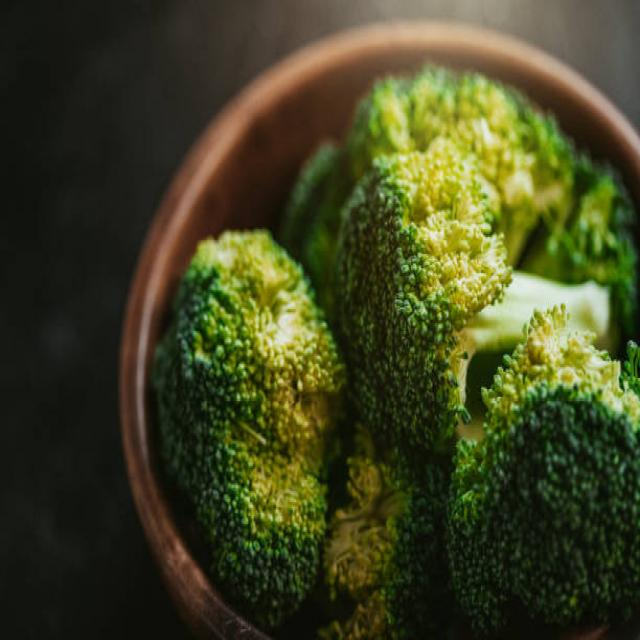broccoli: (335, 164, 638, 351), (170, 243, 320, 578), (466, 373, 640, 632)
